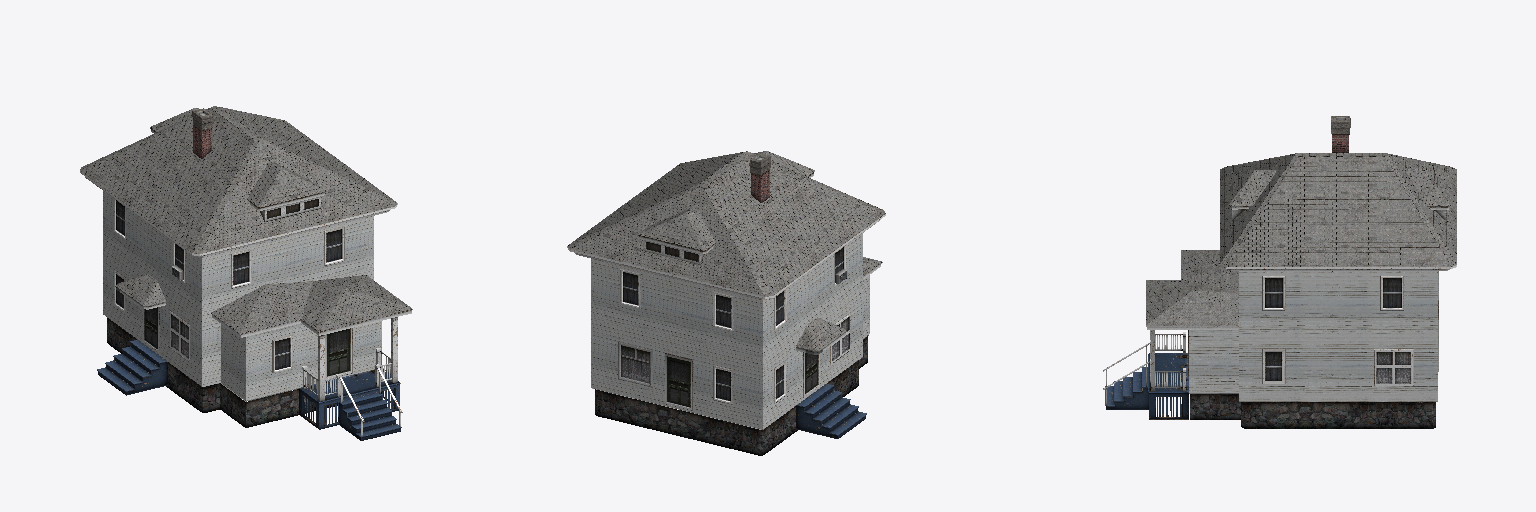
3 renders of one model, left to right at view 1: azimuth 30°, elevation 25°; view 2: azimuth 150°, elevation 25°; view 3: azimuth 270°, elevation 25°, orthographic.
Size of the model in its own units: 12.27 by 12.85 by 16.39.
Materials: 3 (3 with a texture image).